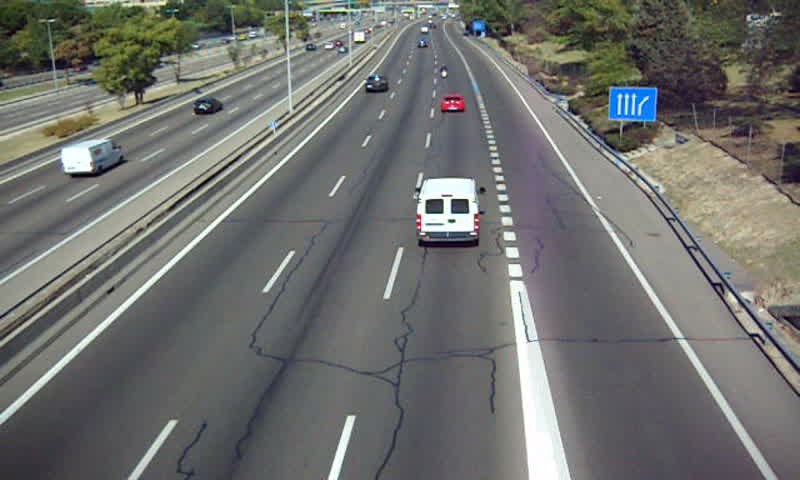car: (440, 93, 467, 114), (366, 75, 391, 92)
motorcycle: (438, 64, 450, 77)
van: (417, 179, 481, 245)
